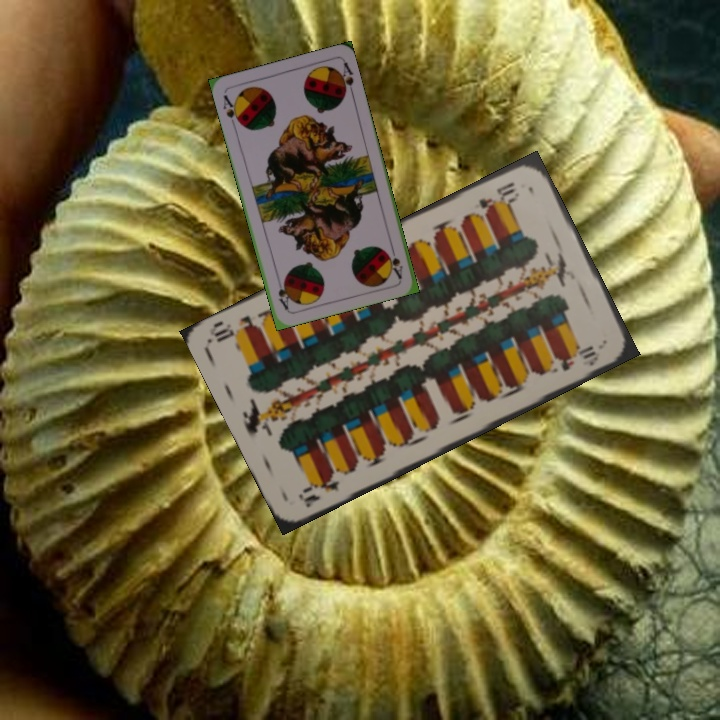E10: (294, 467, 347, 511), (474, 177, 522, 214)
SA: (219, 91, 244, 128), (384, 240, 405, 281)
